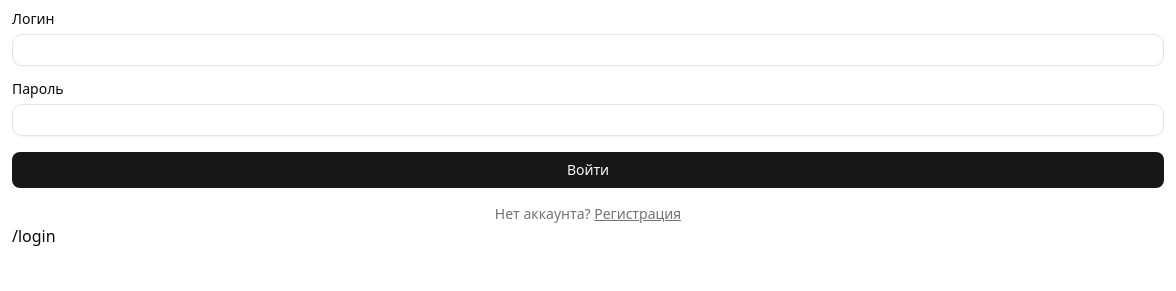
Scenario: LoginForm › показывает клиентскую ошибку валидации без обращения к backend
Type "ab" into the field labelled "Логин". click: (588, 50)
box: [12, 34, 1164, 66]
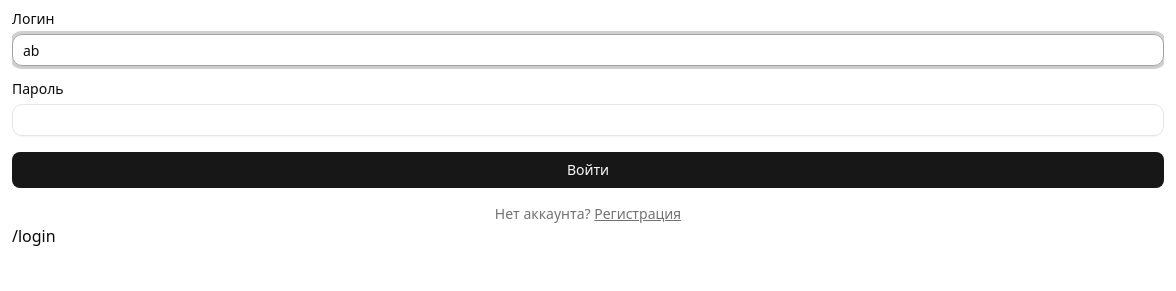
Type "somepassword" into the password field labelled "Пароль". click: (588, 120)
box: [12, 104, 1164, 136]
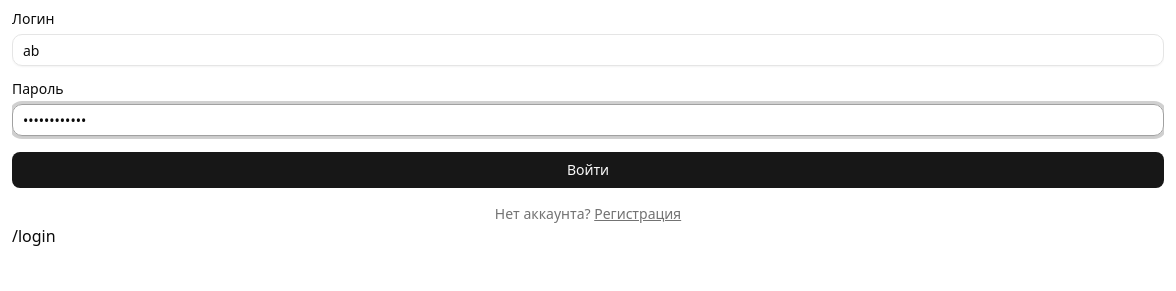
Click the button "Войти". click: click(588, 170)
box: [12, 152, 1164, 188]
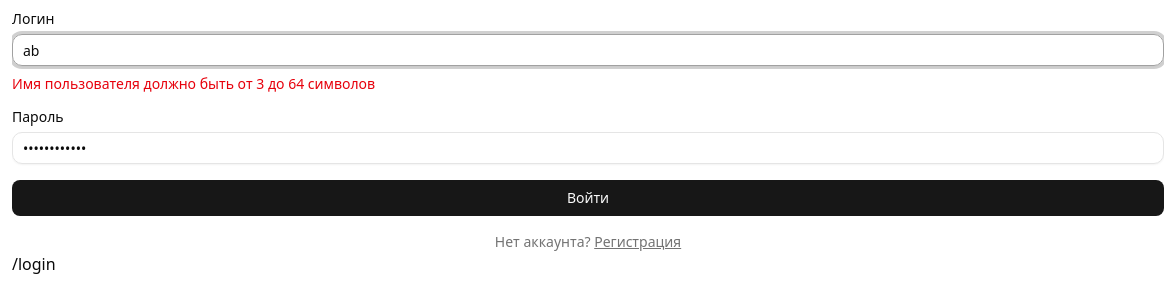
Expected: the text "Имя пользователя должно быть от 3 до 64 символов" is shown, [12, 74, 375, 93]
